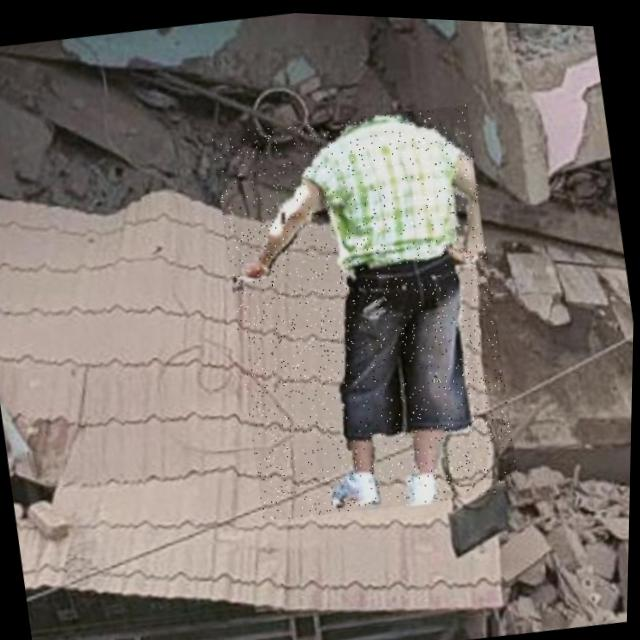Person in Rubble: (205, 91, 529, 529)
